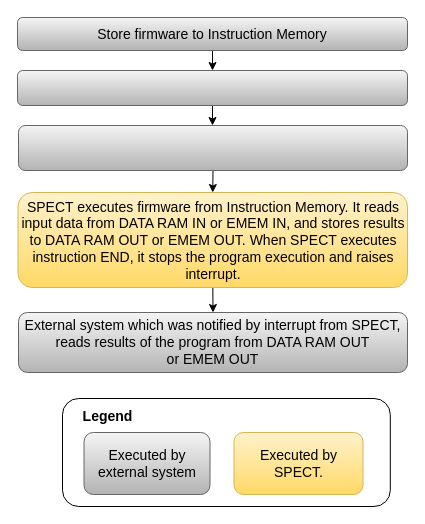
Some shapes in this 425 by 524 pixel diagram are drawn without their labels. Each missing label, with the centre of its shape:
"Store input parameters for the firmware to DATA RAM IN." goes at (x=212, y=88).
"Write INT_ENA[INT_DONE_EN] = 1. Launch program by writing COMMAND[START] = 1." goes at (x=213, y=147).
